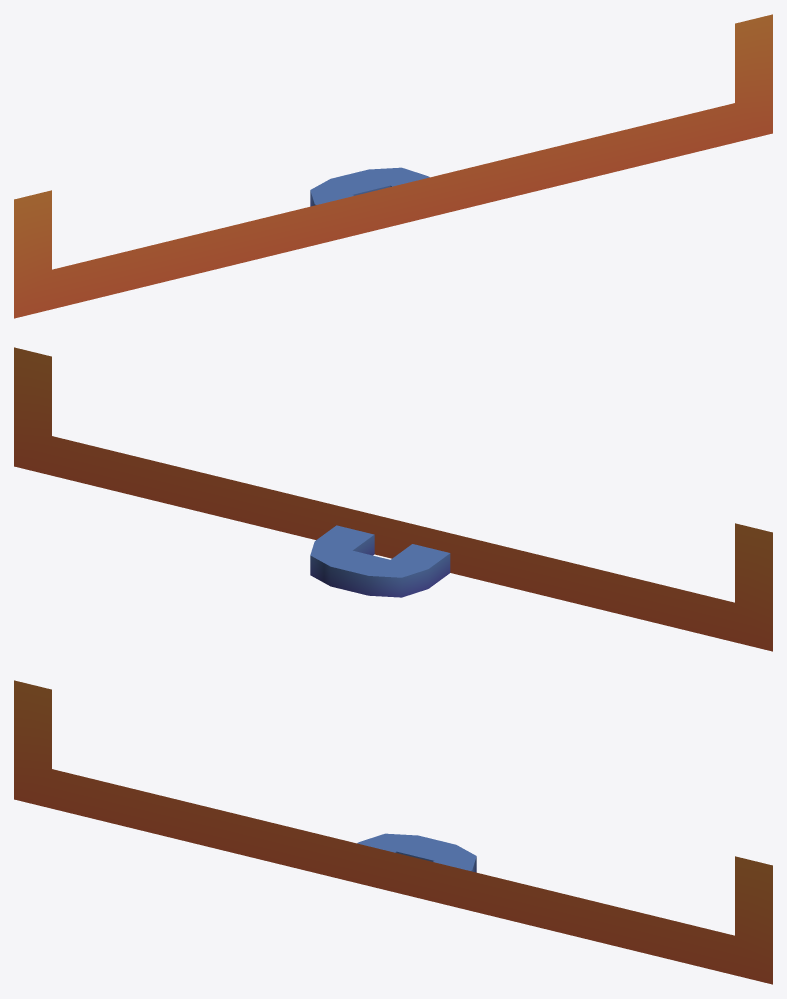
Rendered from track-wide-cap-front.glb.
3 renders of one model, top to bottom at view 1: azimuth 30°, elevation 25°; view 2: azimuth 150°, elevation 25°; view 3: azimuth 330°, elevation 25°, orthographic.
Parts seen in each view (by area): view 1: track-wide-cap-front; view 2: track-wide-cap-front; view 3: track-wide-cap-front.
Boxes of the visible parts, x1,y1,x2,y2 form: track-wide-cap-front: (14, 14, 772, 318); track-wide-cap-front: (14, 347, 772, 651); track-wide-cap-front: (14, 680, 772, 984).
Size of the model in its own units: 2 by 0.3 by 0.2.
